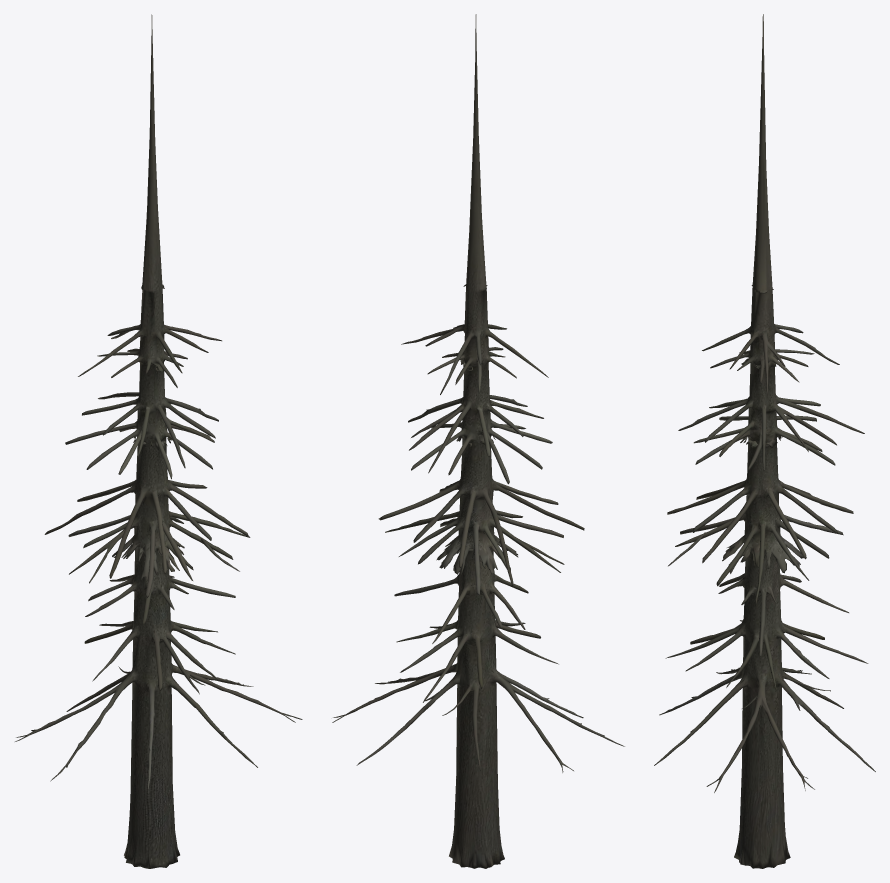
Rendered from pine.opt.glb.
3 renders of one model, left to right at view 1: azimuth 30°, elevation 25°; view 2: azimuth 150°, elevation 25°; view 3: azimuth 270°, elevation 25°, orthographic.
Parts seen in each view (by area): view 1: node_0; view 2: node_0; view 3: node_0.
Part boxes in pixels (<box>): node_0: <box>15,14,302,868</box>; node_0: <box>332,14,624,868</box>; node_0: <box>654,14,875,868</box>.
Bounding box in the file's own units: 0.3743 × 1.2 × 0.2856.
1 material, 1 textured.
